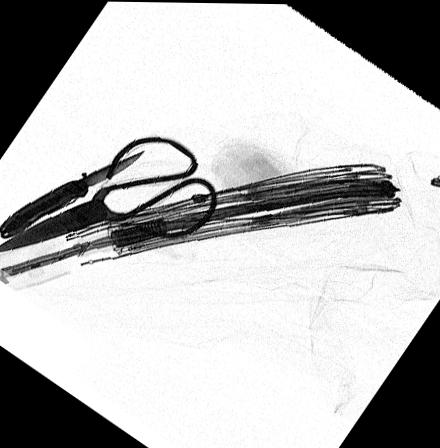Knife: (0, 149, 145, 237)
Scissors: (0, 132, 215, 249)
